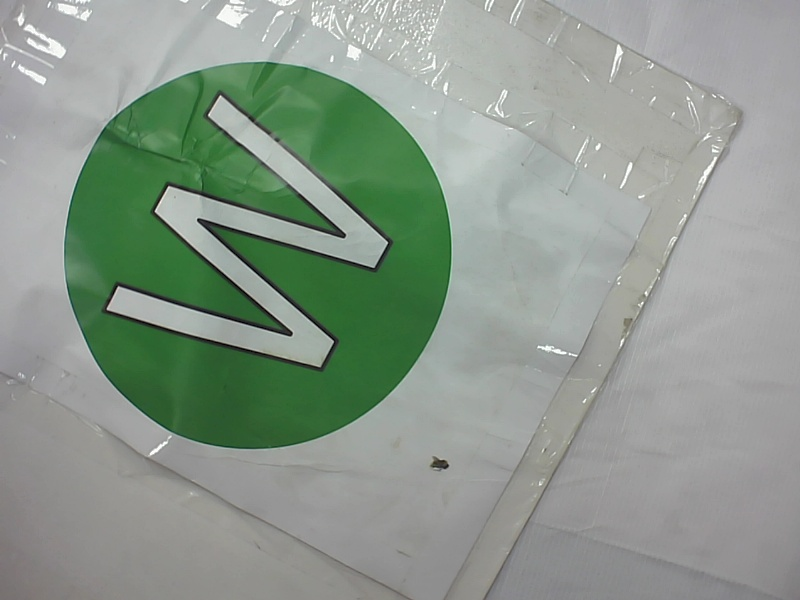areaB: (53, 50, 450, 455)
